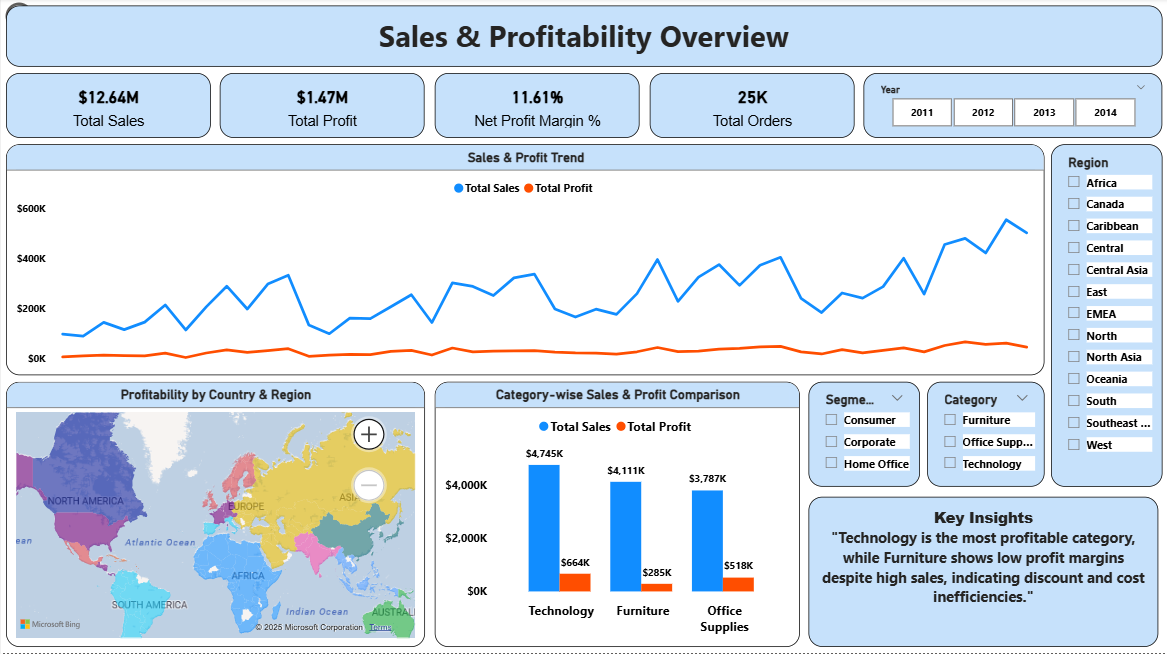

What the dashboard file says about the page in this screenshot:
{"tool":"powerbi","page":{"name":"Business Overview","canvas":[1280,720],"ordinal":0},"visuals":[{"type":"card","fields":{"Values":["Measure_Table.Total Sales"]},"box":[5.5,82.3,225,71.4],"z":0},{"type":"card","fields":{"Values":["Measure_Table.Total Profit"]},"box":[240.1,82.3,225,71.4],"z":1000},{"type":"card","fields":{"Values":["Measure_Table.Profit Margin"]},"box":[476.2,82.3,225,71.4],"z":2000},{"type":"clusteredColumnChart","title":"Category-wise Sales & Profit Comparison","fields":{"Category":["Global_Superstore2.Category"],"Y":["Measure_Table.Total Sales","Measure_Table.Total Profit"]},"box":[476.2,421.3,400.7,290.9],"z":3000},{"type":"slicer","fields":{"Values":["DateTable.Year"]},"box":[946.8,82.3,328,71.4],"z":4000},{"type":"actionButton","box":[0,0,100.2,39.8],"z":5000},{"type":"textbox","box":[886.5,547.5,384.2,164.7],"z":6000},{"type":"card","fields":{"Values":["Measure_Table.Total Orders"]},"box":[712.2,82.3,225,71.4],"z":7000},{"type":"textbox","box":[5.5,8.2,1269.3,67.2],"z":8000},{"type":"slicer","fields":{"Values":["Global_Superstore2.Category"]},"box":[1016.8,421.3,129,115.3],"z":9000},{"type":"slicer","fields":{"Values":["Global_Superstore2.Region"]},"box":[1152.7,160.5,122.1,376],"z":10000},{"type":"lineChart","title":"Sales & Profit Trend","fields":{"Category":["DateTable.YearMonth"],"Y":["Measure_Table.Total Sales","Measure_Table.Total Profit"]},"box":[5.5,160.5,1140.3,253.9],"z":11000},{"type":"slicer","fields":{"Values":["Global_Superstore2.Segment"]},"box":[886.5,421.3,122.1,115.3],"z":12000},{"type":"filledMap","title":"Profitability by Country & Region","fields":{"Category":["Global_Superstore2.Country"],"Series":["Global_Superstore2.Region"]},"box":[5.5,421.3,459.7,290.9],"z":13000}]}

Visuals, with their boxes in screenshot pixels (x1, y1, x2, y2), scaled from the page's 1280x720 canvas onto the 1167x654 screenshot:
card - Measure_Table.Total Sales: <box>5,75,210,140</box>
card - Measure_Table.Total Profit: <box>219,75,424,140</box>
card - Measure_Table.Profit Margin: <box>434,75,639,140</box>
"Category-wise Sales & Profit Comparison" clusteredColumnChart: <box>434,383,799,647</box>
slicer - DateTable.Year: <box>863,75,1162,140</box>
actionButton: <box>0,0,91,36</box>
textbox: <box>808,497,1159,647</box>
card - Measure_Table.Total Orders: <box>649,75,854,140</box>
textbox: <box>5,7,1162,68</box>
slicer - Global_Superstore2.Category: <box>927,383,1045,487</box>
slicer - Global_Superstore2.Region: <box>1051,146,1162,487</box>
"Sales & Profit Trend" lineChart: <box>5,146,1045,376</box>
slicer - Global_Superstore2.Segment: <box>808,383,920,487</box>
"Profitability by Country & Region" filledMap: <box>5,383,424,647</box>
